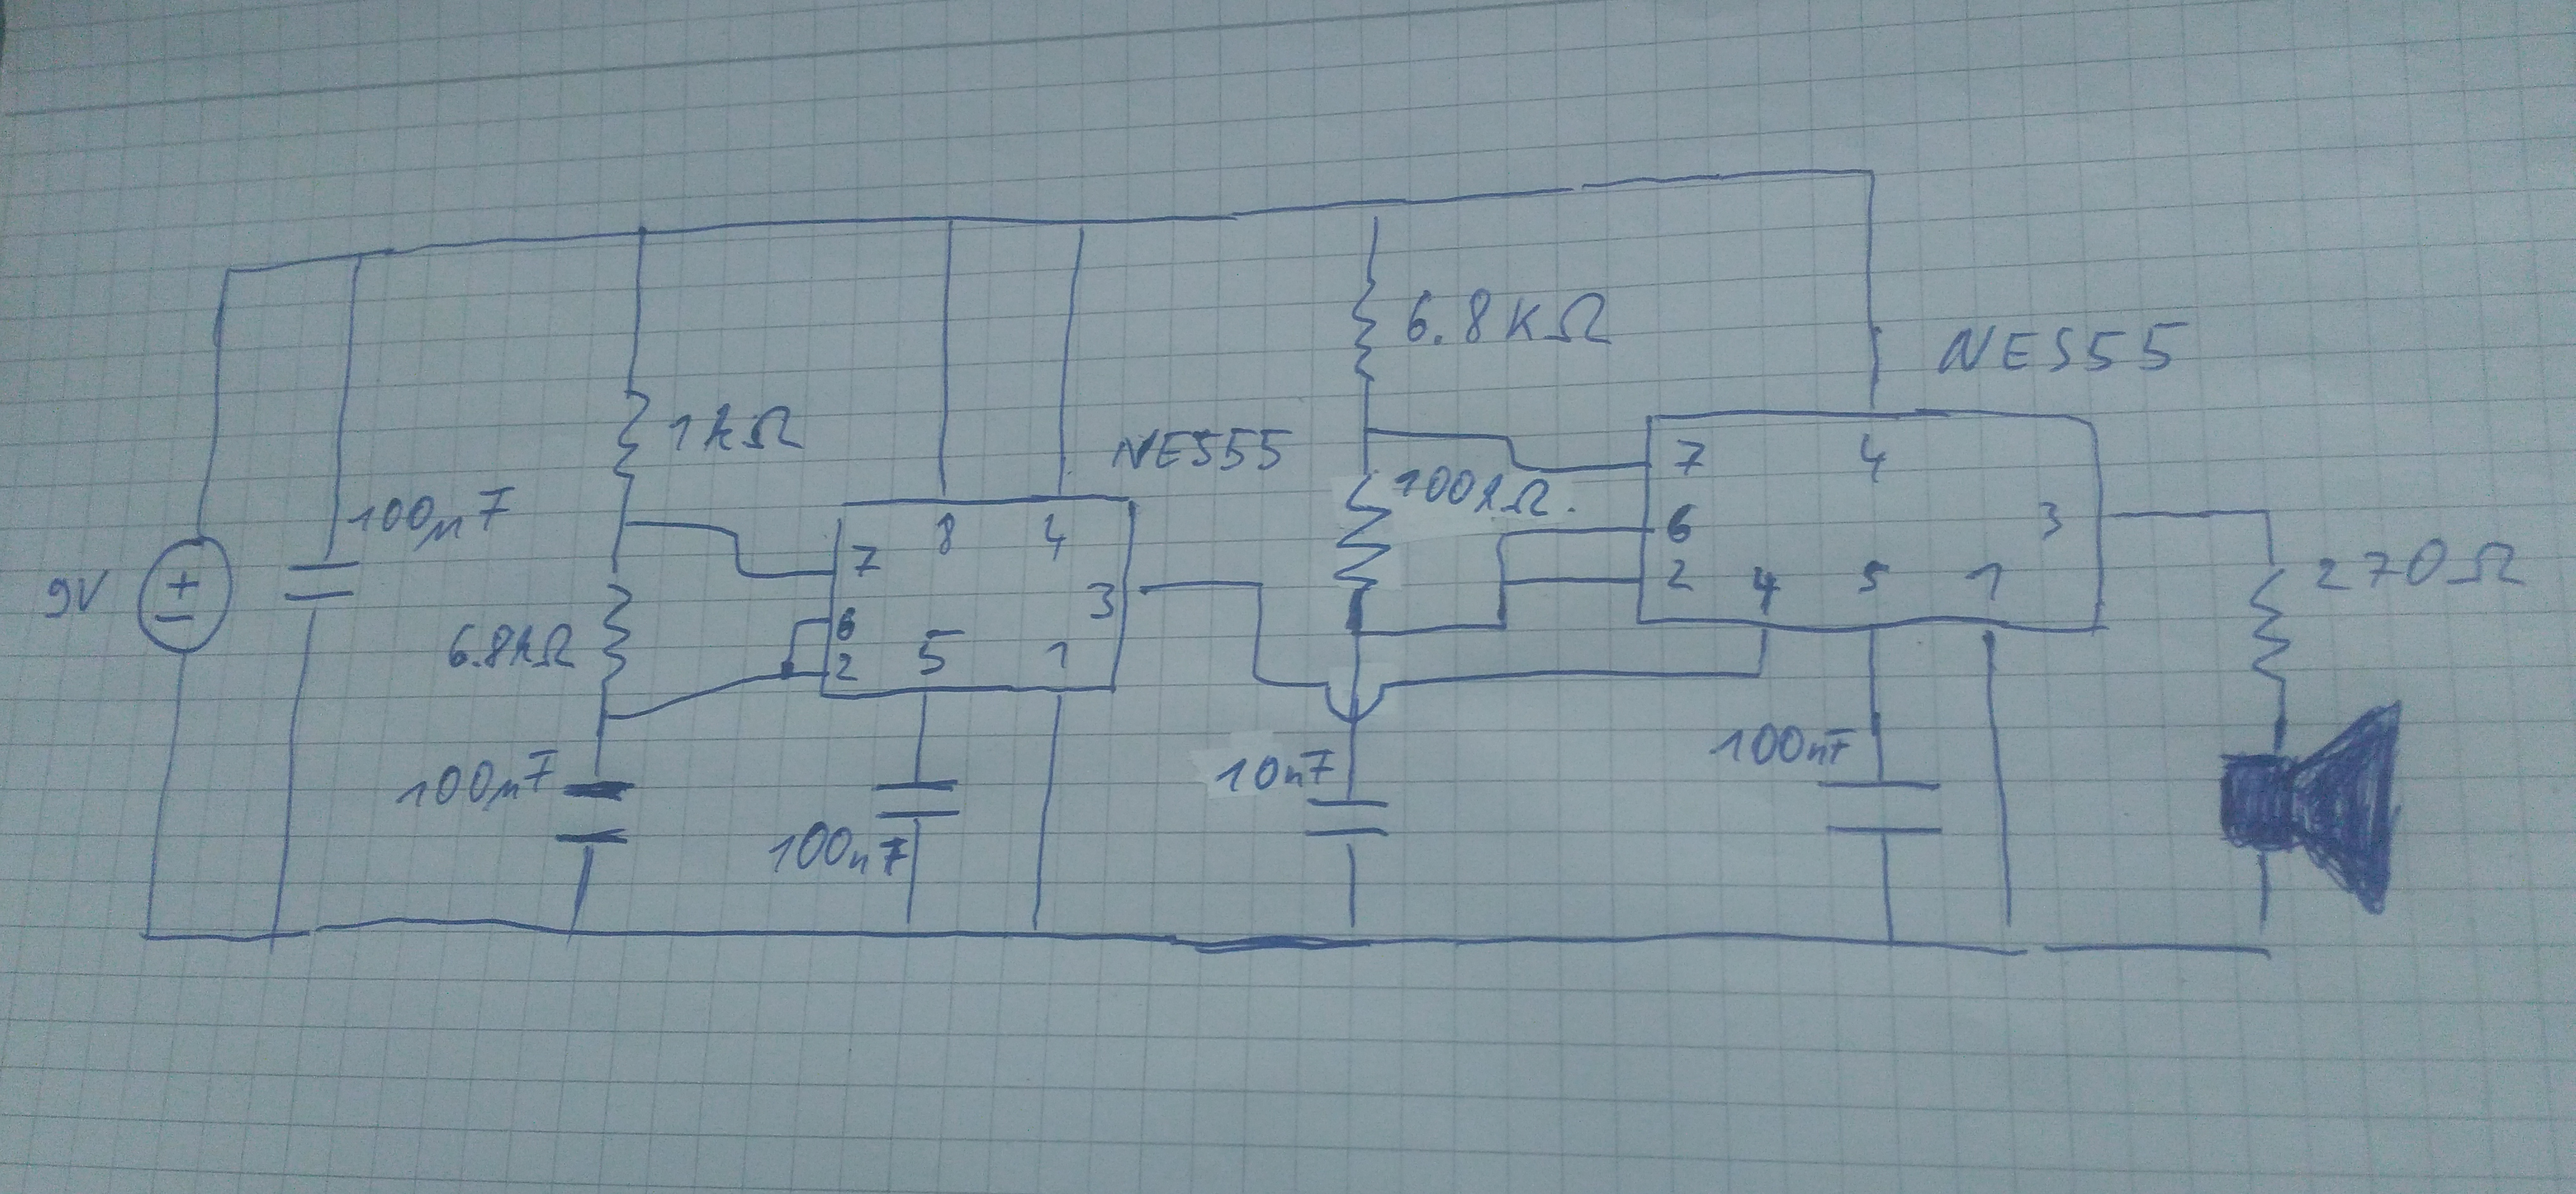capacitor.unpolarized: (1810, 772, 1952, 843), (550, 775, 649, 851), (1299, 788, 1396, 846), (862, 777, 969, 824), (279, 553, 361, 608)
crossover: (1316, 672, 1390, 726)
integrated_cricuit.ne555: (1623, 404, 2121, 639), (816, 483, 1150, 708)
junction: (1981, 902, 2050, 969), (2231, 907, 2297, 977), (1322, 903, 1383, 964), (2242, 494, 2293, 540), (1058, 204, 1106, 250), (1870, 920, 1919, 964), (885, 905, 931, 951), (1015, 913, 1058, 956), (1738, 655, 1779, 700), (1477, 608, 1529, 642), (603, 506, 651, 542), (1350, 189, 1393, 228), (1850, 153, 1891, 192), (1336, 616, 1380, 652), (342, 241, 379, 282), (624, 217, 667, 253), (933, 202, 971, 241), (1350, 416, 1393, 450), (1487, 524, 1525, 562), (555, 913, 588, 954), (128, 916, 164, 953), (1487, 422, 1525, 457), (769, 657, 808, 690), (721, 553, 759, 586), (720, 521, 756, 553), (1488, 568, 1526, 599), (260, 923, 291, 959), (1498, 450, 1534, 480), (1244, 660, 1275, 691), (215, 256, 245, 289), (784, 609, 813, 642), (591, 703, 619, 731), (1247, 575, 1276, 599)
resistor: (1329, 457, 1395, 604), (2242, 560, 2293, 696), (608, 368, 654, 496), (595, 567, 632, 695), (1349, 268, 1382, 386)
speaker: (2213, 693, 2403, 918)
text: (1935, 315, 2190, 379), (1405, 286, 1618, 350), (2311, 530, 2530, 591), (345, 483, 522, 553), (393, 744, 562, 811), (1104, 424, 1295, 476), (1393, 466, 1552, 519), (767, 820, 912, 877), (665, 397, 808, 455), (1707, 719, 1860, 769), (442, 619, 580, 673), (1206, 746, 1337, 795), (39, 565, 113, 621), (917, 626, 969, 680), (1960, 557, 2008, 611), (1850, 555, 1891, 609), (1856, 430, 1894, 486), (1671, 430, 1710, 481), (1746, 563, 1784, 616), (1661, 499, 1699, 550), (1040, 509, 1071, 563), (2031, 498, 2067, 540), (1084, 580, 1117, 624), (1042, 636, 1074, 678), (846, 542, 882, 580), (933, 509, 958, 557), (835, 604, 862, 645), (1664, 557, 1695, 591), (833, 652, 859, 687)
voltage.dc: (131, 529, 238, 659)
